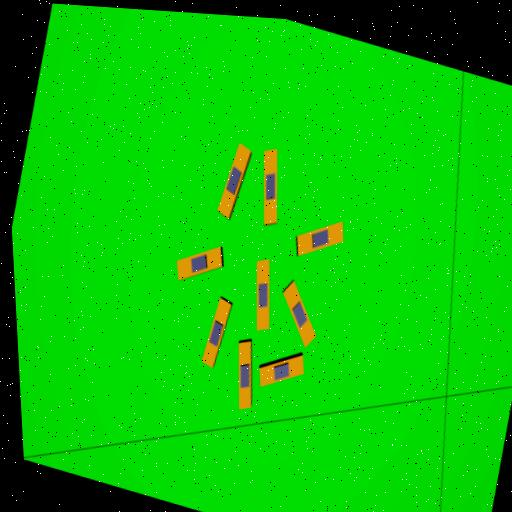objects: (214, 142, 251, 220), (280, 280, 318, 348), (200, 296, 233, 368), (291, 220, 349, 256), (172, 245, 227, 280), (254, 354, 309, 388), (261, 148, 278, 226), (254, 258, 270, 330), (238, 341, 251, 409)
